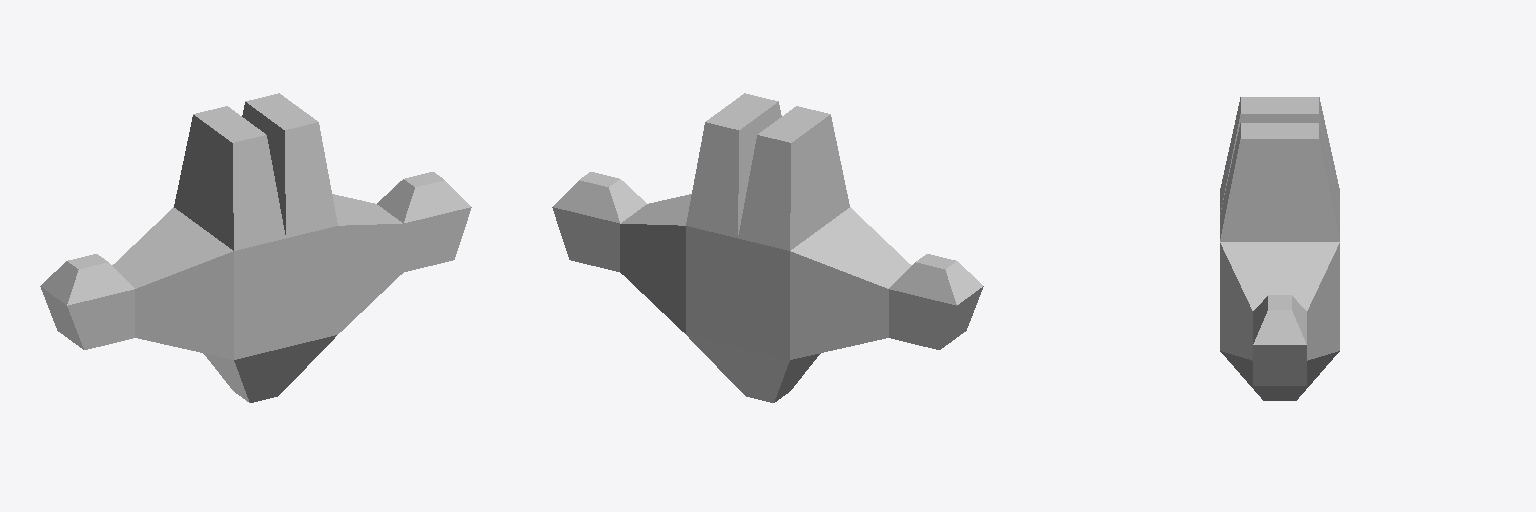
File: idle_00.obj
3 views of the same model, side by side, from view 1: azimuth 30°, elevation 25°; view 2: azimuth 150°, elevation 25°; view 3: azimuth 270°, elevation 25° (orthographic).
Visible parts, largest first — view 1: Cube; view 2: Cube; view 3: Cube.
Boxes of the visible parts, x1=… form: Cube: x1=40, y1=93, x2=471, y2=402; Cube: x1=552, y1=93, x2=983, y2=402; Cube: x1=1220, y1=97, x2=1339, y2=400.
Bounding box in the file's own units: 7.77 × 5.06 × 2.